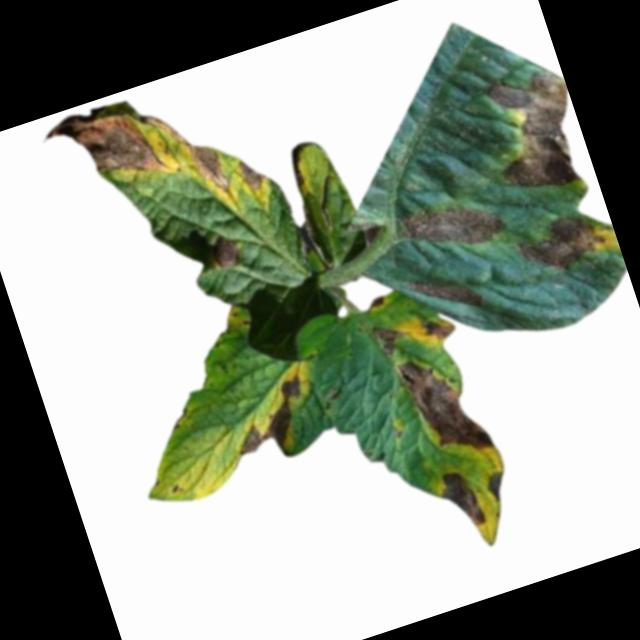Early_blight: (38, 76, 234, 240), (472, 60, 593, 201), (397, 340, 496, 466), (220, 371, 322, 464), (398, 187, 511, 265), (512, 201, 620, 281), (408, 262, 487, 324), (434, 465, 487, 535), (234, 152, 270, 193), (209, 231, 243, 269), (373, 320, 406, 358), (481, 465, 513, 503), (422, 312, 456, 342), (364, 291, 388, 310)
